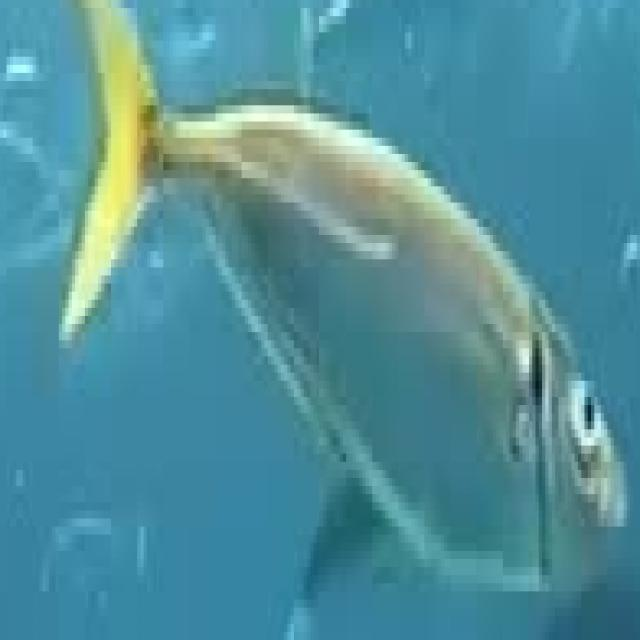fish: (0, 8, 637, 640)
